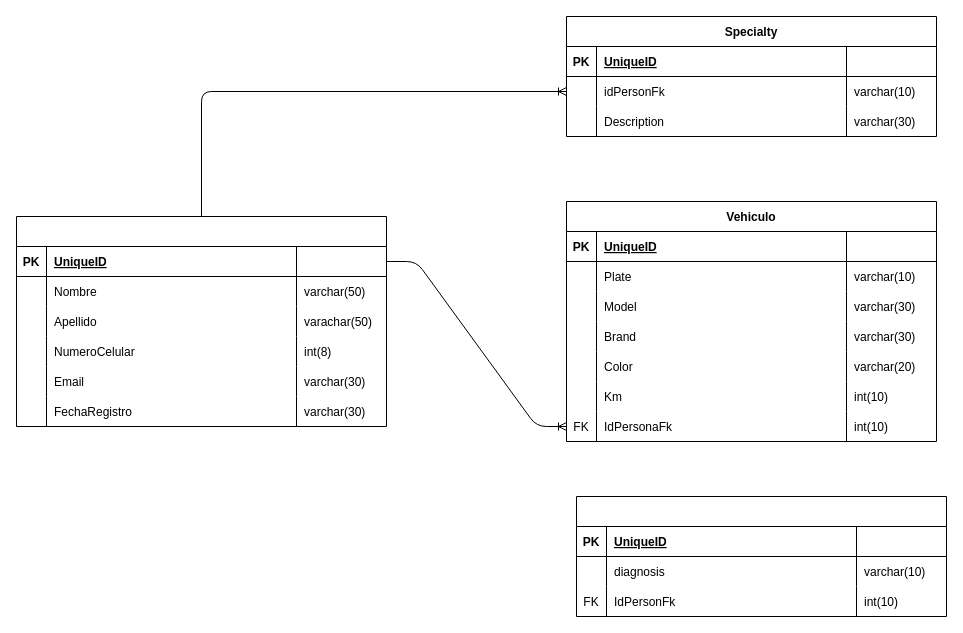
Some shapes in this 963 by 633 pixel diagram are drawn without their labels. Here are the shapes that lost their labels. From the top down, the box of each, then its label:
(16, 216, 386, 426): Person
(576, 496, 946, 616): ExpertDiagnosis
